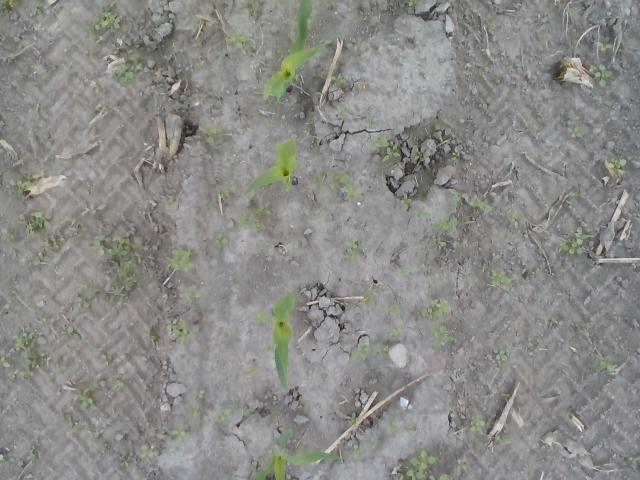Maize: (261, 0, 327, 98), (248, 429, 342, 480), (242, 134, 298, 196), (271, 290, 298, 392)
Weeds: (94, 232, 140, 302), (310, 170, 362, 202), (14, 329, 46, 370), (415, 207, 459, 234), (448, 188, 492, 214), (112, 52, 144, 85), (238, 202, 272, 233), (558, 226, 592, 256), (408, 448, 438, 480), (368, 134, 402, 162), (88, 4, 121, 32), (417, 296, 452, 321), (15, 212, 51, 235), (162, 421, 194, 446), (351, 341, 388, 361), (590, 352, 618, 376), (342, 234, 364, 264), (166, 248, 193, 272), (166, 318, 192, 342), (589, 62, 612, 89), (200, 119, 224, 144), (430, 324, 454, 348), (385, 420, 416, 438), (566, 110, 585, 139), (351, 287, 377, 306), (72, 388, 95, 409), (604, 156, 626, 176), (489, 270, 512, 288), (228, 26, 246, 47), (345, 442, 362, 464), (44, 234, 64, 252), (138, 442, 158, 459), (209, 408, 233, 421), (454, 453, 470, 472), (16, 176, 32, 194), (470, 412, 484, 432), (0, 224, 16, 241), (332, 73, 348, 90), (384, 302, 401, 316), (214, 232, 228, 249), (254, 310, 268, 326), (592, 42, 614, 52), (31, 254, 49, 266), (62, 226, 80, 238), (414, 146, 426, 162), (32, 2, 46, 15), (494, 349, 509, 361), (183, 405, 198, 417), (362, 438, 378, 449), (192, 390, 208, 401), (495, 434, 512, 444), (399, 192, 412, 205), (111, 376, 125, 388), (1, 0, 22, 8), (336, 104, 348, 118), (240, 404, 255, 415), (102, 351, 112, 367), (0, 452, 16, 462), (162, 198, 175, 210), (81, 207, 98, 216), (431, 238, 443, 250), (118, 454, 130, 466), (509, 211, 521, 222), (149, 334, 161, 345), (194, 59, 206, 70), (450, 147, 460, 160), (26, 449, 34, 465), (64, 334, 82, 341), (182, 289, 194, 299), (0, 355, 9, 368), (500, 392, 511, 402), (484, 19, 496, 28), (438, 472, 451, 480), (271, 96, 284, 104), (390, 328, 400, 338), (399, 268, 409, 278), (631, 454, 640, 465), (367, 117, 376, 128), (351, 412, 359, 424), (264, 116, 272, 126), (320, 206, 328, 216), (394, 473, 404, 480), (408, 0, 418, 7), (632, 260, 640, 268), (568, 192, 576, 200)
